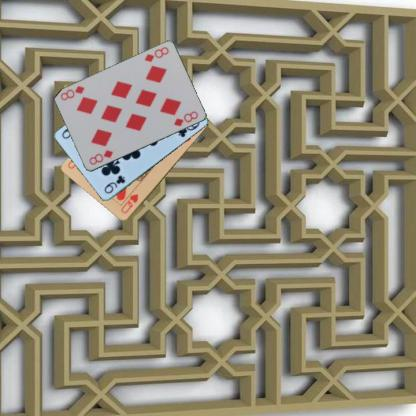8d: (142, 44, 170, 64), (87, 148, 114, 166)
9c: (102, 173, 127, 195)
Qh: (118, 191, 140, 215)
